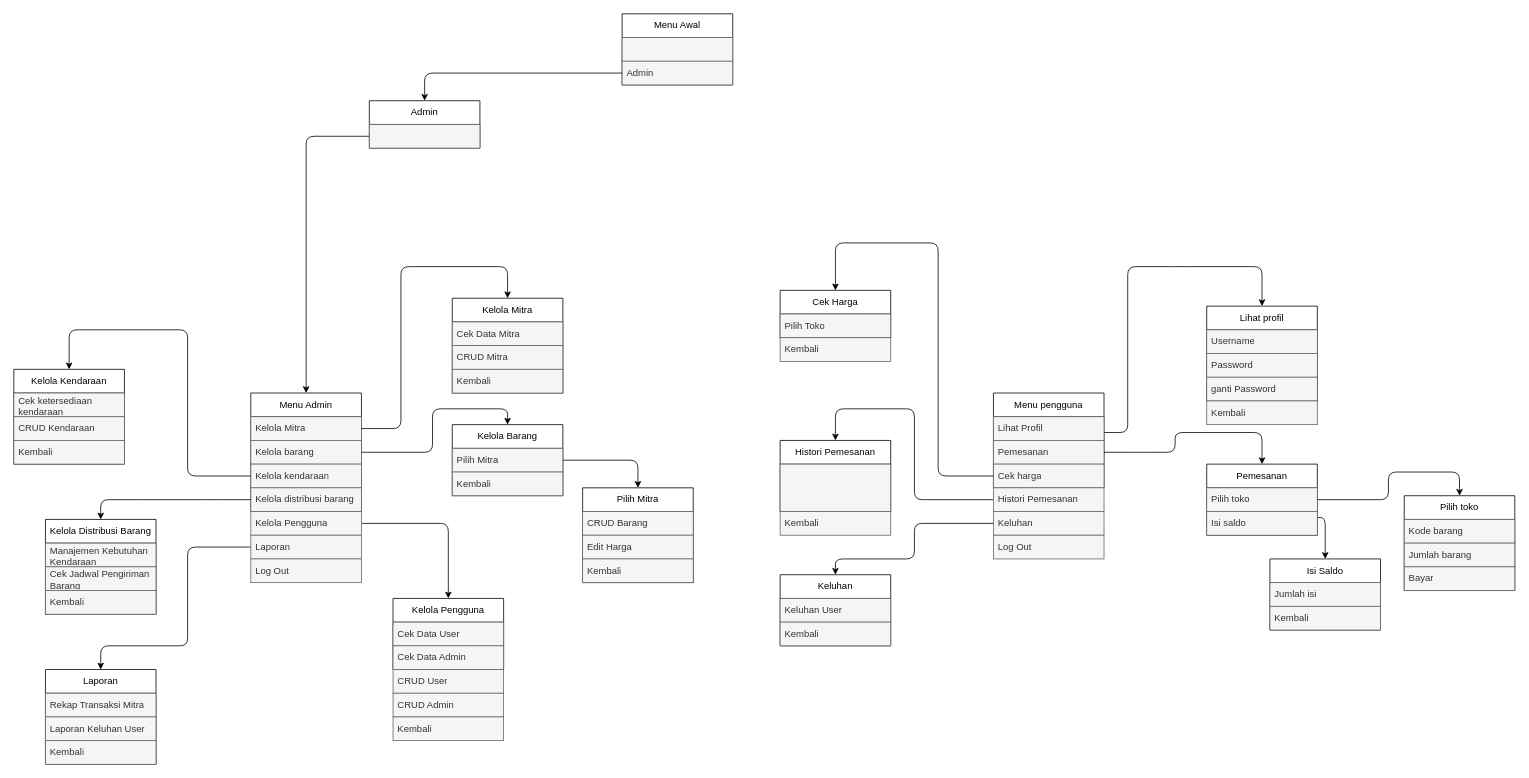
Image size: 1529x778. Some labels were removed from this diagram. The shapes that lost their labels are listed below. From the top down, each one's centre as x and y in pixels, then its label:
the point at 677,49: User
the point at 424,136: Login
the point at 835,487: Menampilkan histori pemesanan berdasarkan tanggal
